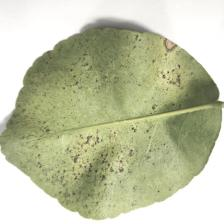canker: (53, 140, 138, 196)
